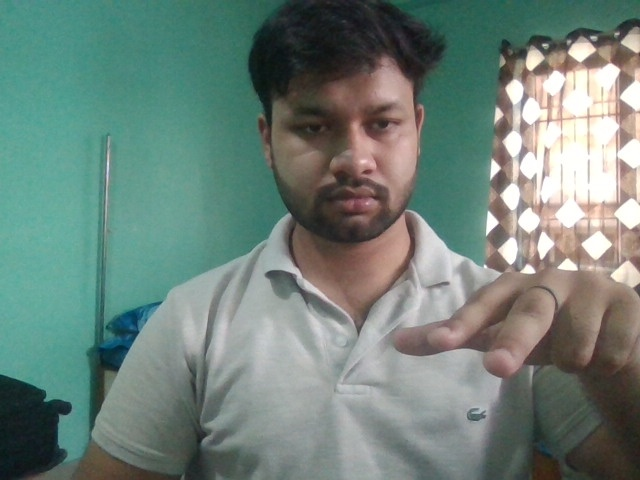No: (390, 269, 640, 385)
